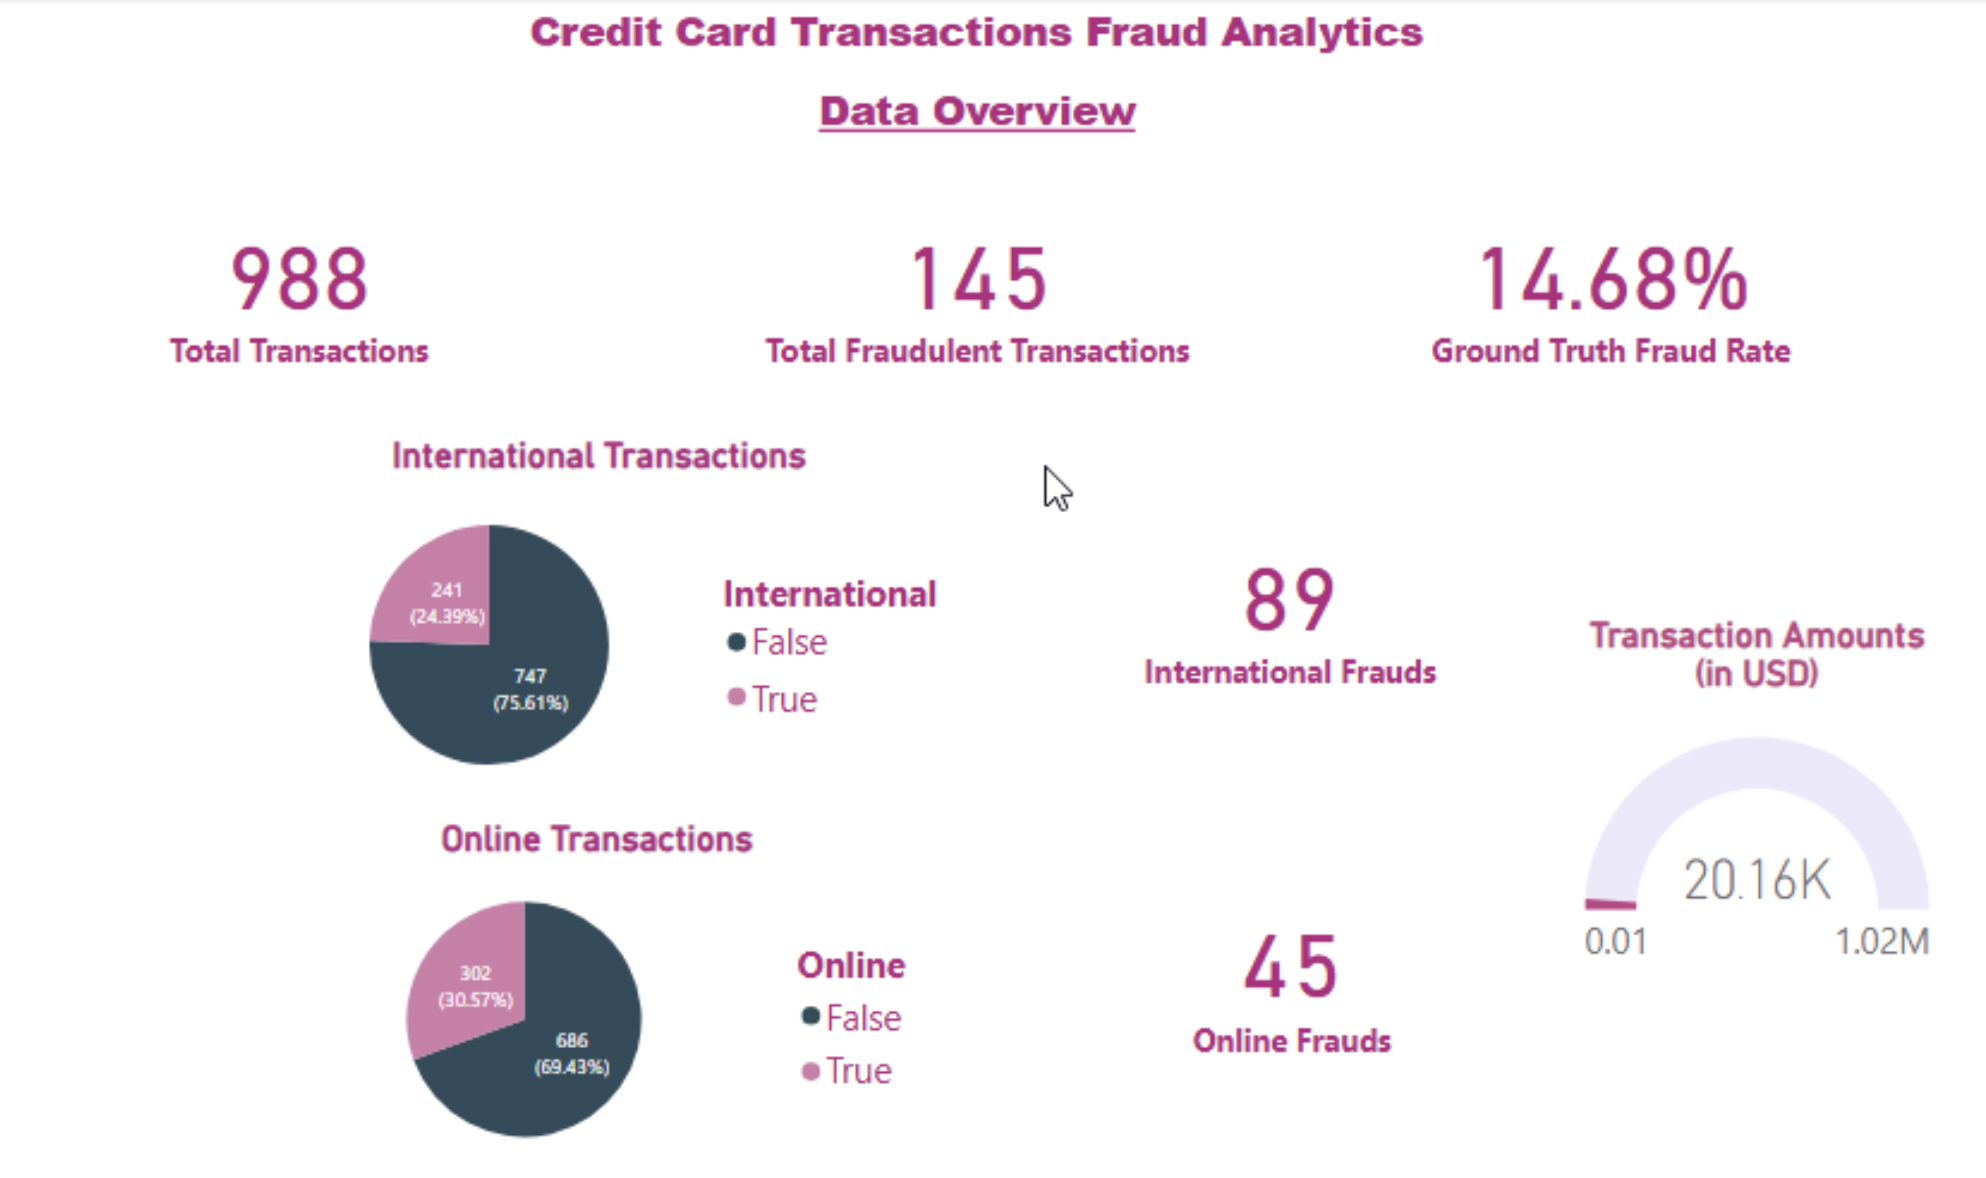

Layout of this report page (visuals, bound fields, positions):
{"tool":"powerbi","page":{"name":"Overview","canvas":[1280,720],"ordinal":0},"visuals":[{"type":"textbox","box":[293.8,0,690.8,47.7],"z":0},{"type":"textbox","box":[501.5,47.7,275.4,49.2],"z":1000},{"type":"card","fields":{"Values":["Sum(final_credit_card_data.is_fraud)"]},"box":[496.9,96.9,284.6,158.5],"z":2000},{"type":"card","fields":{"Values":["CountNonNull(final_credit_card_data.transaction_datetime)"]},"box":[93.8,96.9,266.2,158.5],"z":3000},{"type":"card","fields":{"Values":["final_credit_card_data.Measure"]},"box":[892.3,96.9,266.2,158.5],"z":4000},{"type":"pieChart","title":"International Transactions","fields":{"Y":["CountNonNull(final_credit_card_data.is_international_Bool)"],"Category":["final_credit_card_data.is_international_Bool"]},"box":[196.9,266.2,427.7,232.3],"z":5000},{"type":"actionButton","box":[0,0,100,40],"z":6000},{"type":"card","fields":{"Values":["Sum(final_credit_card_data.is_international_fraud)"]},"box":[696.9,292.3,266.2,158.5],"z":7000},{"type":"pieChart","title":"Online Transactions","fields":{"Y":["CountNonNull(final_credit_card_data.is_online_bool)"],"Category":["final_credit_card_data.is_online_bool"]},"box":[193.8,498.5,430.8,221.5],"z":8000},{"type":"card","fields":{"Values":["Sum(final_credit_card_data.is_online_fraud)"]},"box":[718.5,498.5,224.6,192.3],"z":9000},{"type":"gauge","title":"Transaction Amounts (in USD)","fields":{"Y":["Avg(final_credit_card_data.transaction_amount)"],"MinValue":["Min(final_credit_card_data.transaction_amount)1"],"MaxValue":["Max(final_credit_card_data.transaction_amount)2"]},"box":[1003.6,375,219.6,244.6],"z":10000}]}

Visuals, with their boxes on the page's 1280x720 design canvas (x1, y1, x2, y2). These are canvas units, not pixel positions in the 1986x1178 screenshot, which may show the page scaled, cropped or inside an application window:
textbox: rect(294, 0, 985, 48)
textbox: rect(502, 48, 777, 97)
card - Sum(final_credit_card_data.is_fraud): rect(497, 97, 782, 255)
card - CountNonNull(final_credit_card_data.transaction_datetime): rect(94, 97, 360, 255)
card - final_credit_card_data.Measure: rect(892, 97, 1158, 255)
"International Transactions" pieChart: rect(197, 266, 625, 498)
actionButton: rect(0, 0, 100, 40)
card - Sum(final_credit_card_data.is_international_fraud): rect(697, 292, 963, 451)
"Online Transactions" pieChart: rect(194, 498, 625, 720)
card - Sum(final_credit_card_data.is_online_fraud): rect(718, 498, 943, 691)
"Transaction Amounts (in USD)" gauge: rect(1004, 375, 1223, 620)
